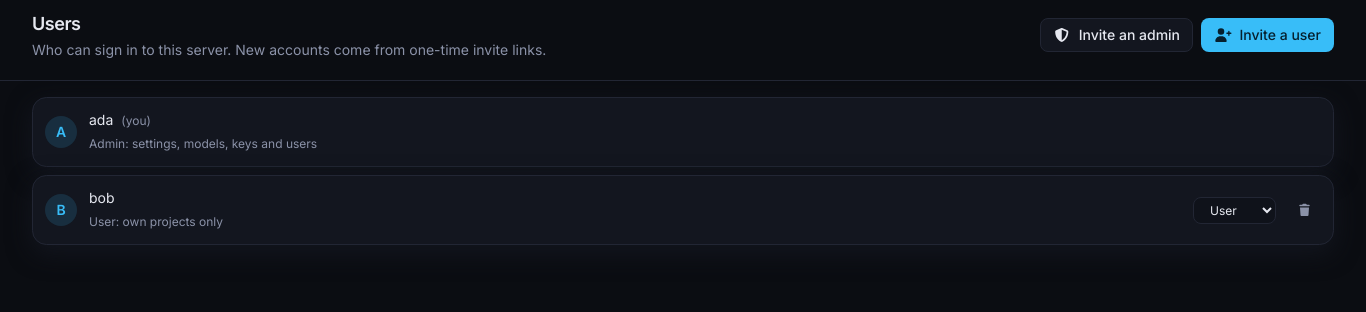
Test: UsersPage › changes a role and shows a refusal inline
Select "Admin" in the dropdown named "Role of bob": (1234, 210) [1193, 196, 1276, 224]
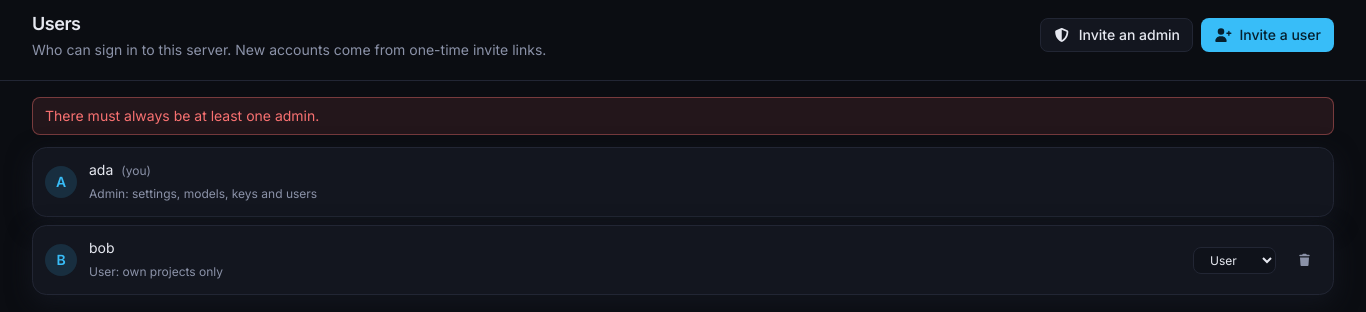
Result: the message shows "at least one admin" at [45, 107, 319, 124]
